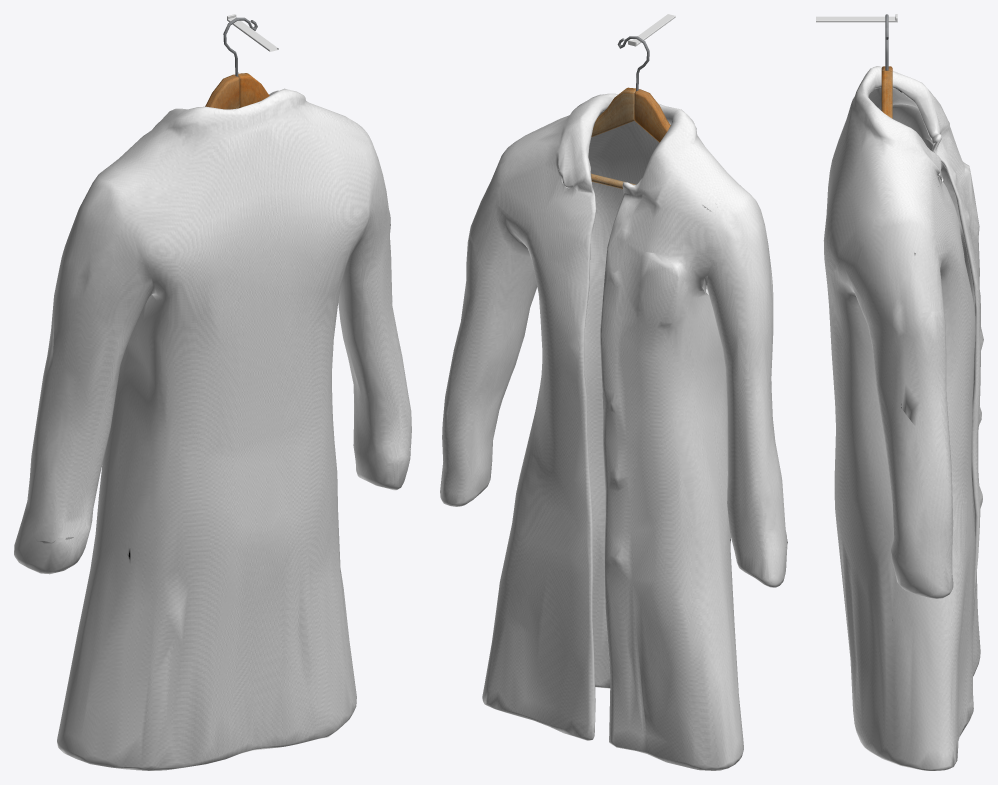
The model's file is lab_coat.fbx.
3 views of the same model, side by side, from view 1: azimuth 30°, elevation 25°; view 2: azimuth 150°, elevation 25°; view 3: azimuth 270°, elevation 25° (orthographic). The views are drawn at different scales.
Parts seen in each view (by area): view 1: coat, hanger; view 2: coat, hanger; view 3: coat, hanger.
Boxes of the visible parts, bbox=[...] form: coat: bbox=[14, 88, 411, 770]; hanger: bbox=[205, 14, 278, 109]; coat: bbox=[440, 93, 787, 770]; hanger: bbox=[591, 14, 675, 189]; coat: bbox=[823, 66, 983, 770]; hanger: bbox=[816, 14, 897, 118].
Size of the model in its own units: 56.73 by 106 by 23.13.
3 materials, 2 textured.
